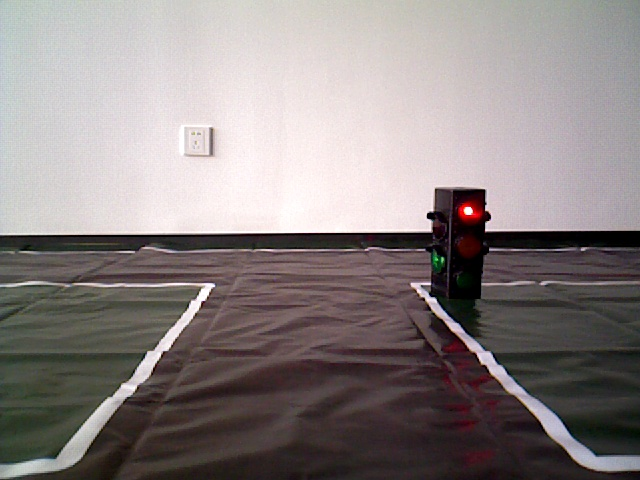red: (433, 191, 481, 300)
